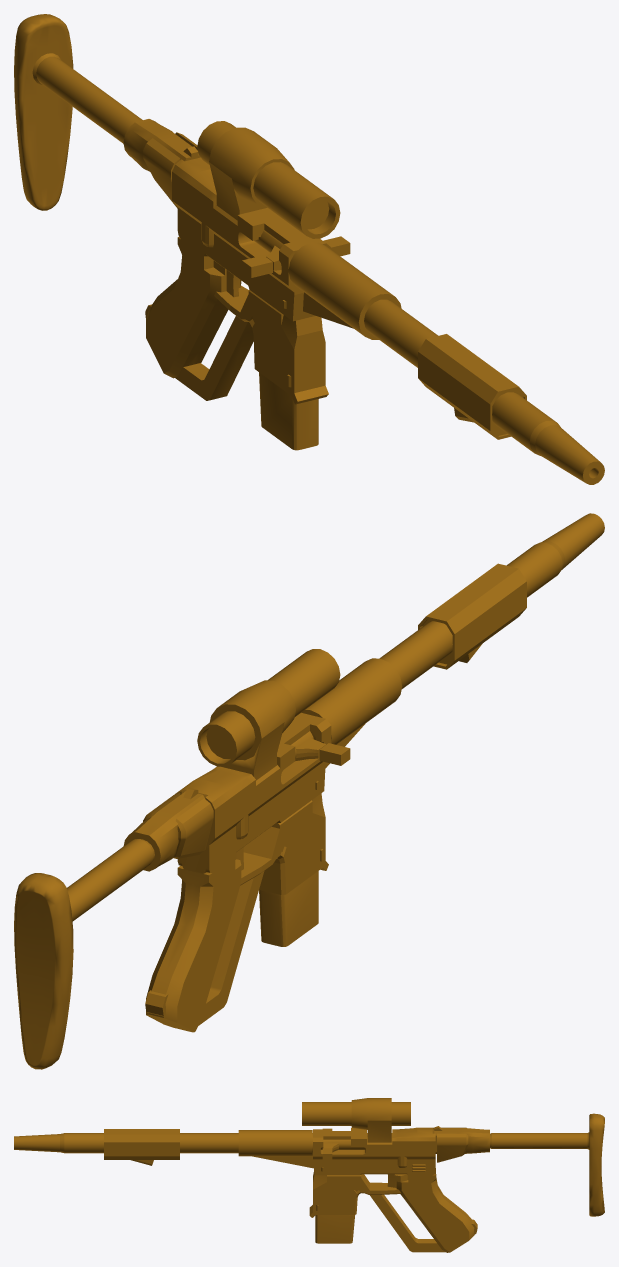
File: rifle.fbx
3 views of the same model, one above another, from view 1: azimuth 30°, elevation 25°; view 2: azimuth 150°, elevation 25°; view 3: azimuth 270°, elevation 25° (orthographic). The views are drawn at different scales.
Visible parts, largest first — view 1: Rifle; view 2: Rifle; view 3: Rifle.
Part boxes in pixels (x1,y1,x2,y2): Rifle: [14, 14, 604, 484]; Rifle: [14, 513, 604, 1069]; Rifle: [14, 1098, 604, 1252].
Size of the model in its own units: 6.92 by 19.12 by 67.81.
